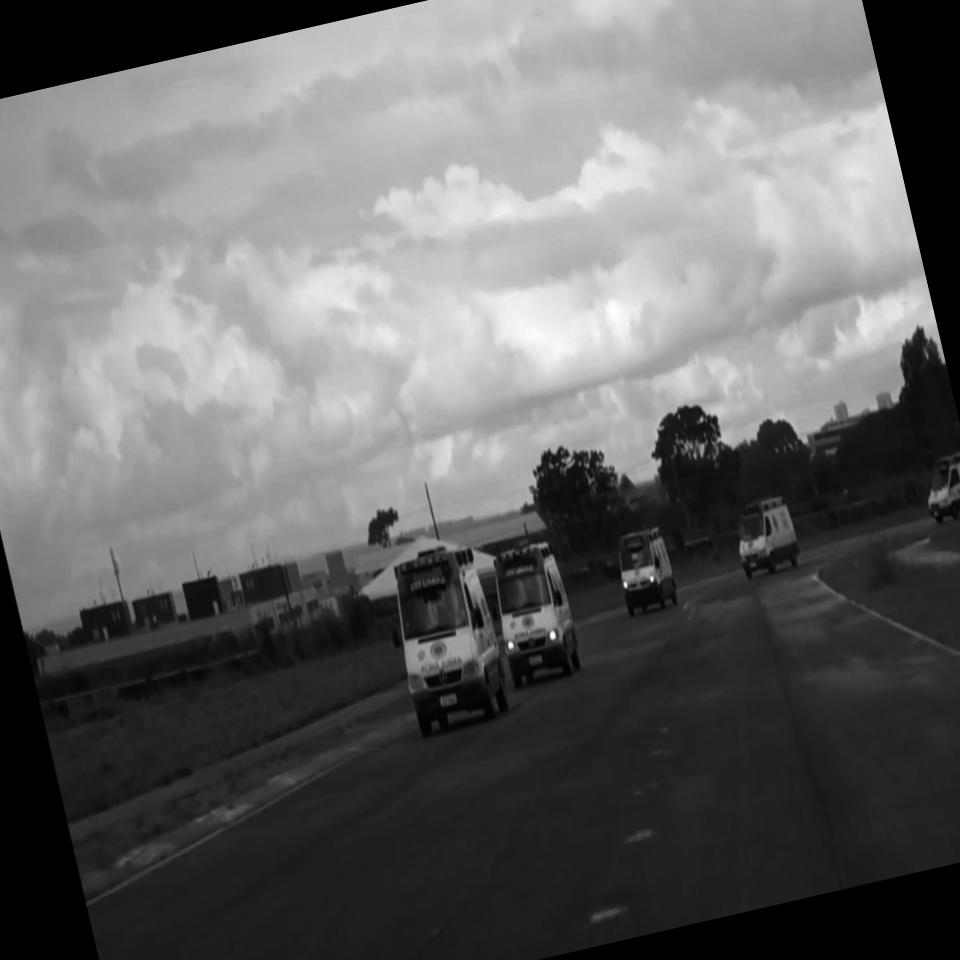bombeiro: (372, 536, 514, 737), (484, 532, 585, 686), (728, 492, 802, 580), (612, 525, 681, 616), (918, 449, 960, 526)
